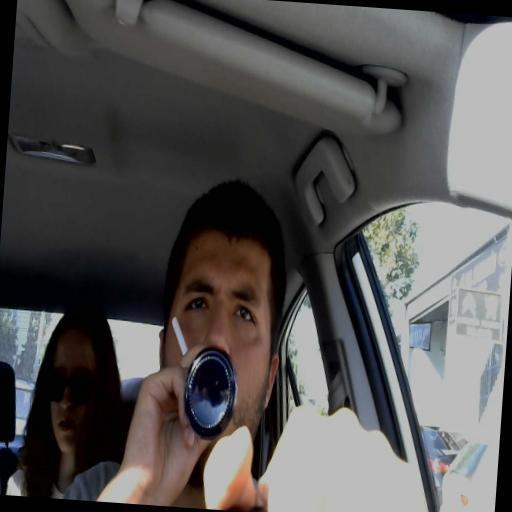Drinking: (133, 230, 281, 435)
